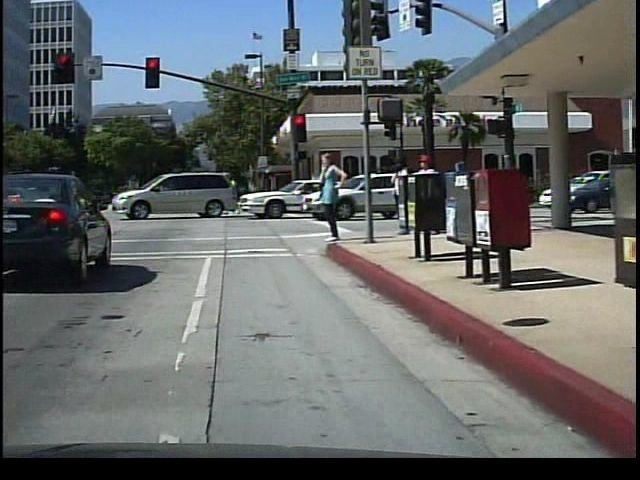person: (311, 147, 345, 247), (410, 147, 442, 239), (384, 149, 411, 235)
